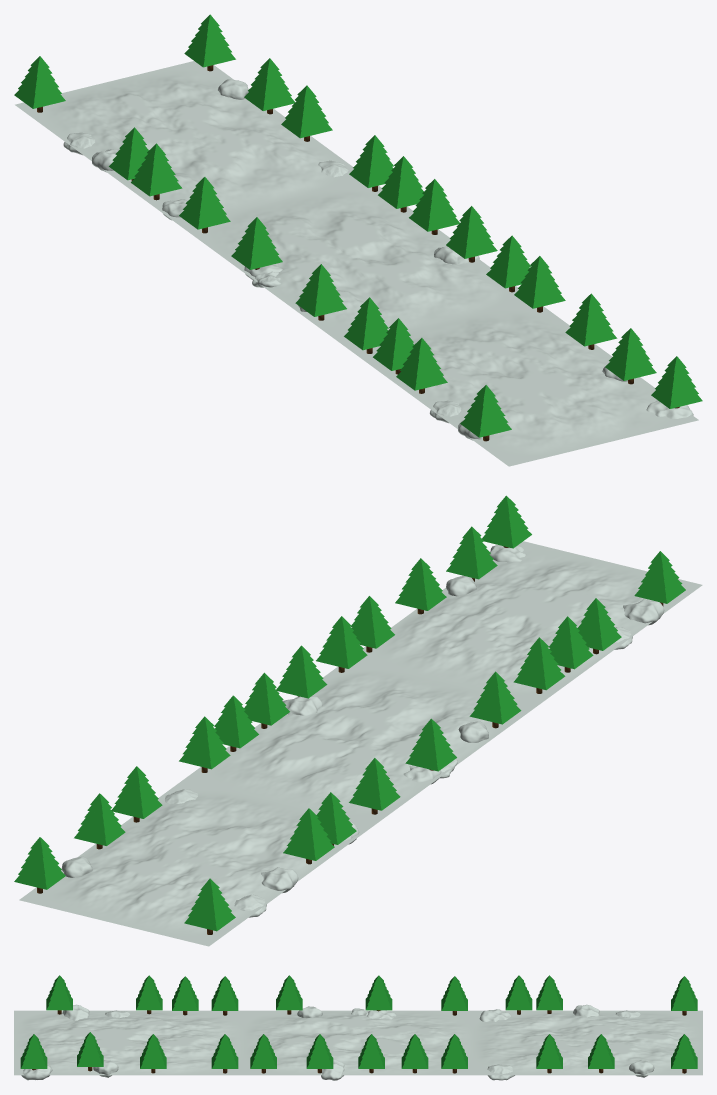
The model's file is aset winter.fbx.
The picture shows the model from 3 angles, top to bottom: view 1: azimuth 30°, elevation 25°; view 2: azimuth 150°, elevation 25°; view 3: azimuth 270°, elevation 25°; orthographic projection. The views are drawn at different scales.
Visible parts, largest first — view 1: Landscape, Landscape.002, Landscape.005; view 2: Landscape.002, Landscape, Landscape.005; view 3: Landscape, Landscape.005, Landscape.002.
Part boxes in pixels (bbox=[...]): Landscape: bbox=[344, 256, 702, 466]; Landscape.002: bbox=[179, 135, 530, 345]; Landscape.005: bbox=[14, 14, 358, 225]; Landscape.002: bbox=[179, 616, 537, 825]; Landscape: bbox=[350, 495, 702, 705]; Landscape.005: bbox=[14, 766, 373, 946]; Landscape: bbox=[14, 975, 243, 1080]; Landscape.005: bbox=[473, 975, 702, 1080]; Landscape.002: bbox=[243, 975, 473, 1080].
Size of the model in its own units: 648 by 199 by 2700.
